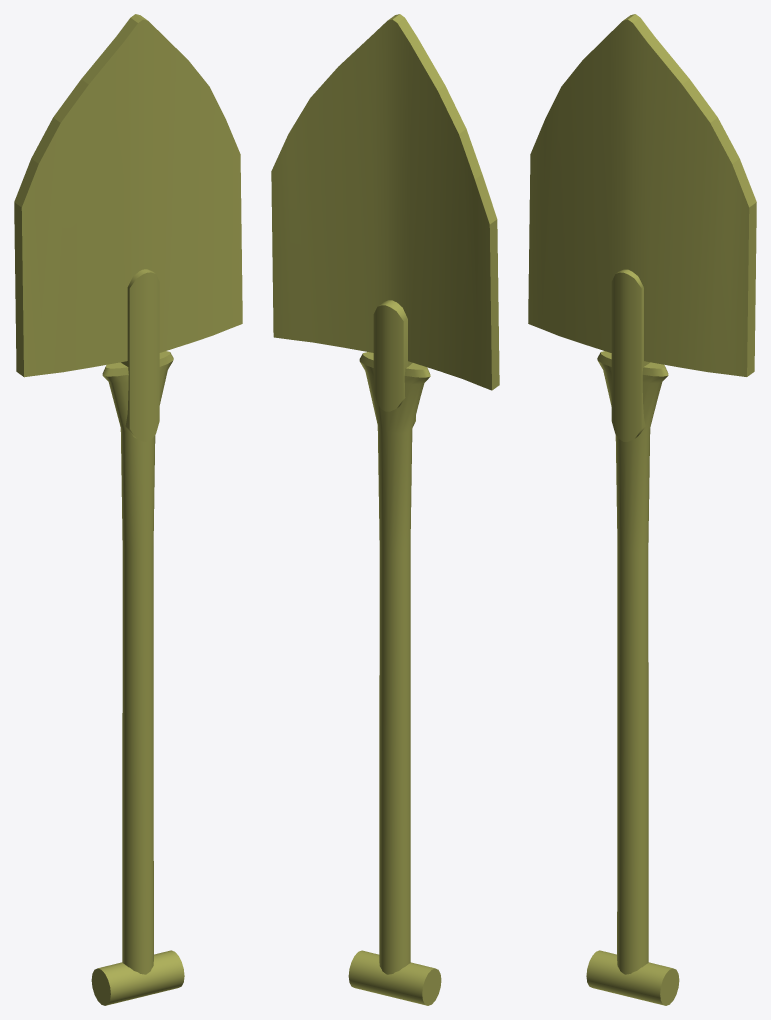
The model's file is Peasant_Shovel.fbx.
3 views of the same model, side by side, from view 1: azimuth 30°, elevation 25°; view 2: azimuth 150°, elevation 25°; view 3: azimuth 330°, elevation 25° (orthographic).
Parts seen in each view (by area): view 1: shovel; view 2: shovel; view 3: shovel.
Boxes of the visible parts, x1,y1,x2,y2 form: shovel: (14, 14, 242, 1005); shovel: (271, 14, 499, 1005); shovel: (528, 14, 756, 1005).
Size of the model in its own units: 54.66 by 234 by 10.45.
